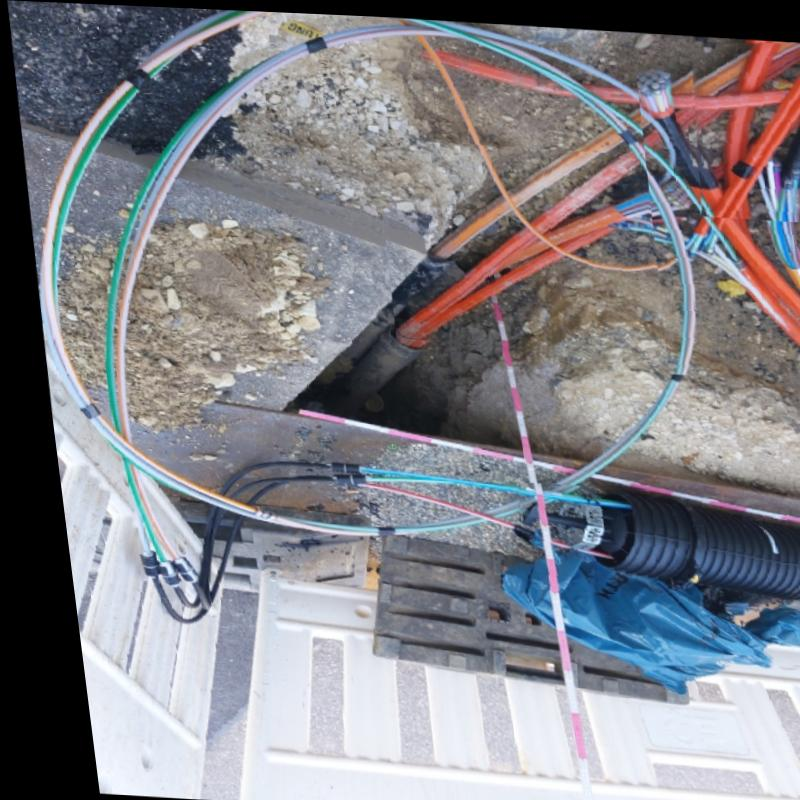NT-Muffen: (506, 481, 800, 598)
Orang-Speednetrohrchen: (387, 148, 693, 337), (634, 57, 800, 347), (689, 34, 800, 212)
